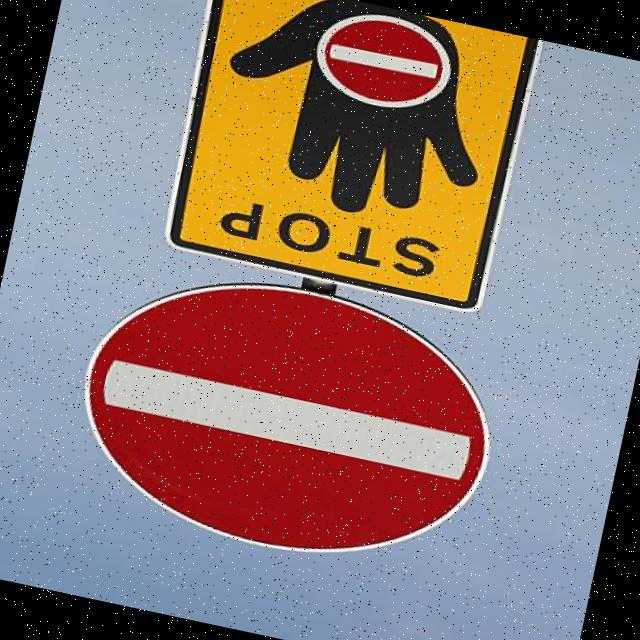do_not_enter: (36, 237, 534, 601)
